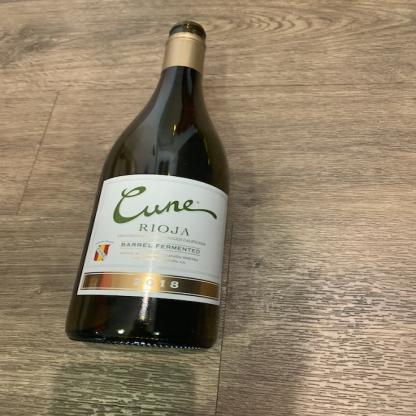trash: (61, 21, 231, 352)
